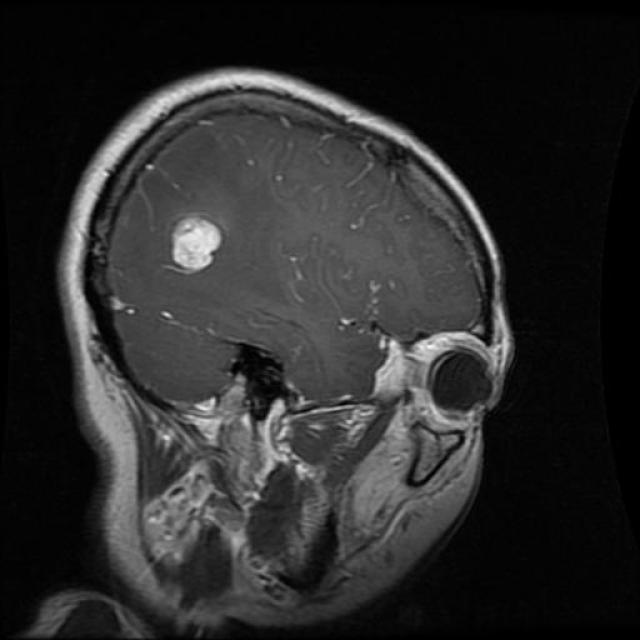glioma: (171, 215, 224, 279)
